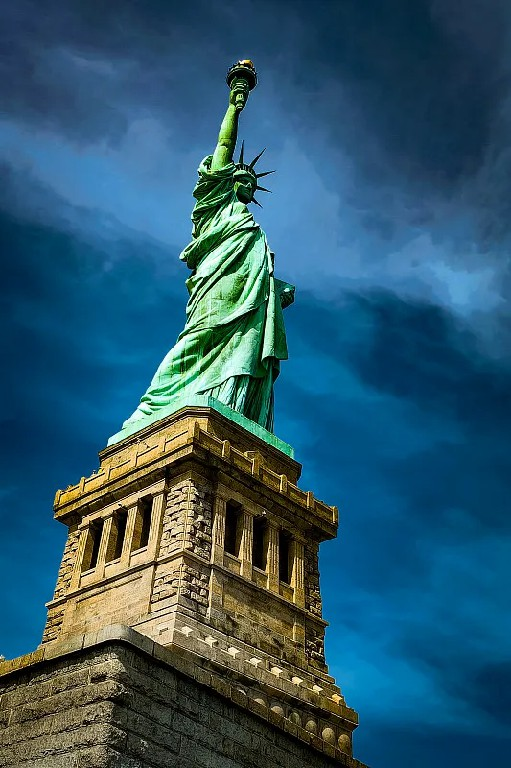SL: (36, 57, 358, 759)
